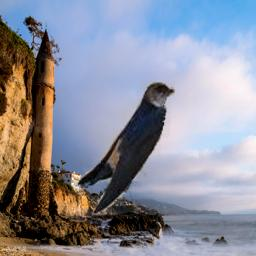Swallow: (45, 82, 175, 221)
